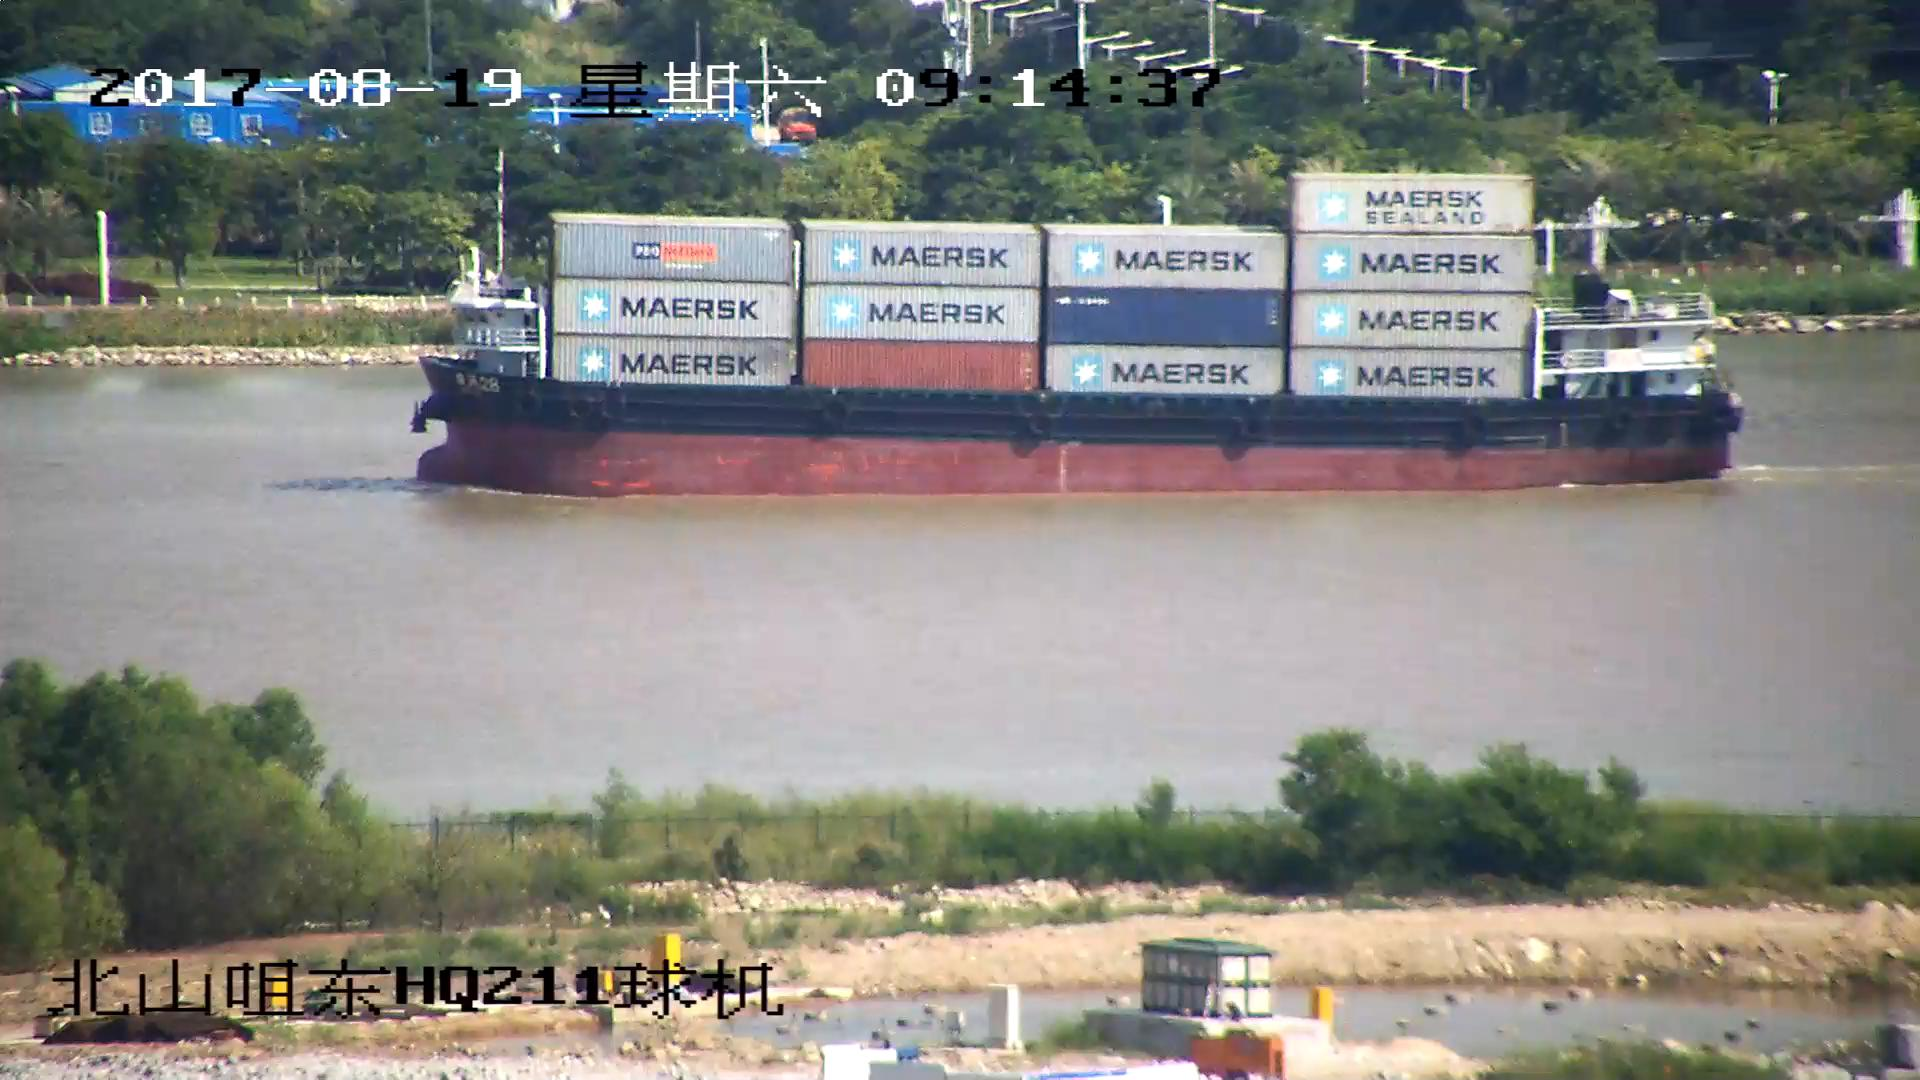container ship: (399, 154, 1740, 501)
